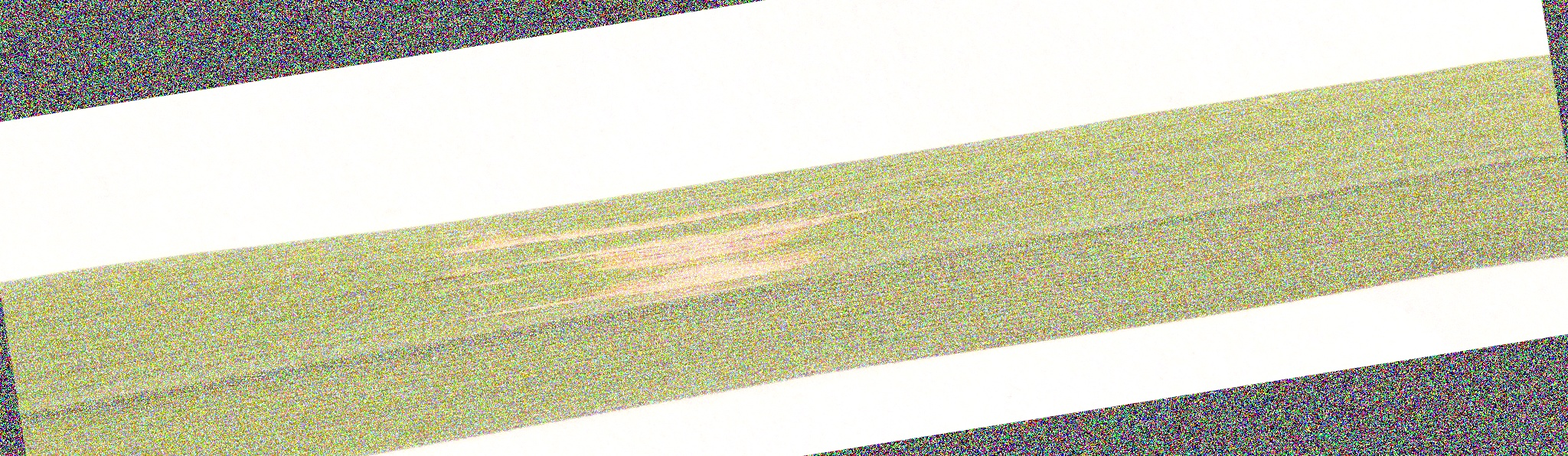Leaf_Blast: (385, 179, 943, 332)
